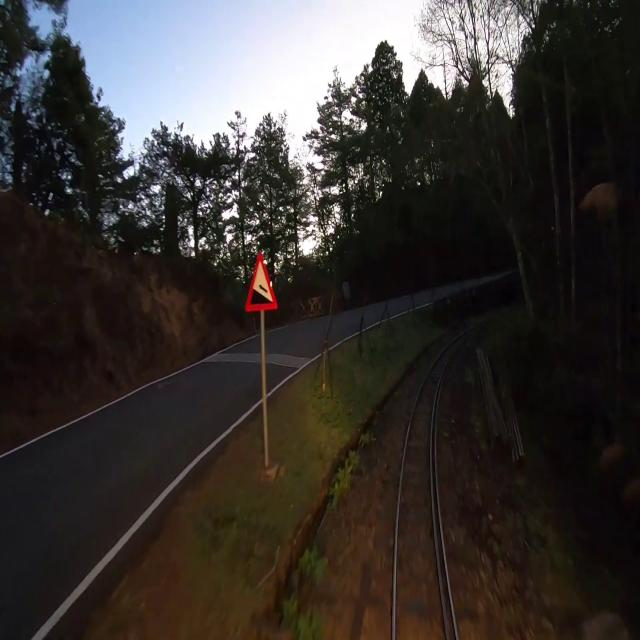rail-track: (396, 321, 486, 639)
